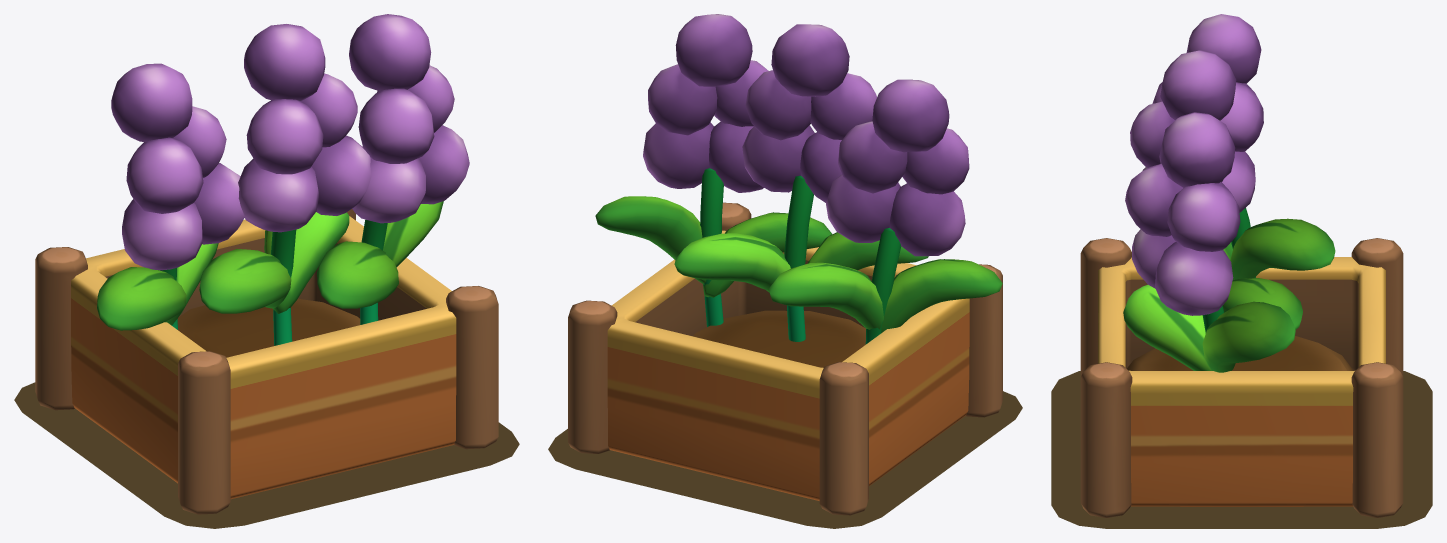
The model's file is Flower02P_L03.fbx.
The picture shows the model from 3 angles, left to right: view 1: azimuth 30°, elevation 25°; view 2: azimuth 150°, elevation 25°; view 3: azimuth 270°, elevation 25°; orthographic projection. The views are drawn at different scales.
Parts seen in each view (by area): view 1: Flower2PL3_Body, Flower2PL3_Box, Flower2PL3_SDW; view 2: Flower2PL3_Body, Flower2PL3_Box, Flower2PL3_SDW; view 3: Flower2PL3_Box, Flower2PL3_Body, Flower2PL3_SDW.
Boxes of the visible parts, left/top/right/bottom form: Flower2PL3_Body: left=97, top=14, right=469, bottom=357; Flower2PL3_Box: left=35, top=209, right=498, bottom=514; Flower2PL3_SDW: left=14, top=382, right=519, bottom=528; Flower2PL3_Body: left=595, top=14, right=1002, bottom=367; Flower2PL3_Box: left=568, top=202, right=1002, bottom=515; Flower2PL3_SDW: left=548, top=391, right=1022, bottom=528; Flower2PL3_Box: left=1080, top=238, right=1403, bottom=517; Flower2PL3_Body: left=1123, top=14, right=1353, bottom=372; Flower2PL3_SDW: left=1051, top=371, right=1432, bottom=528.
Bounding box in the file's own units: 129 × 134 × 118.
